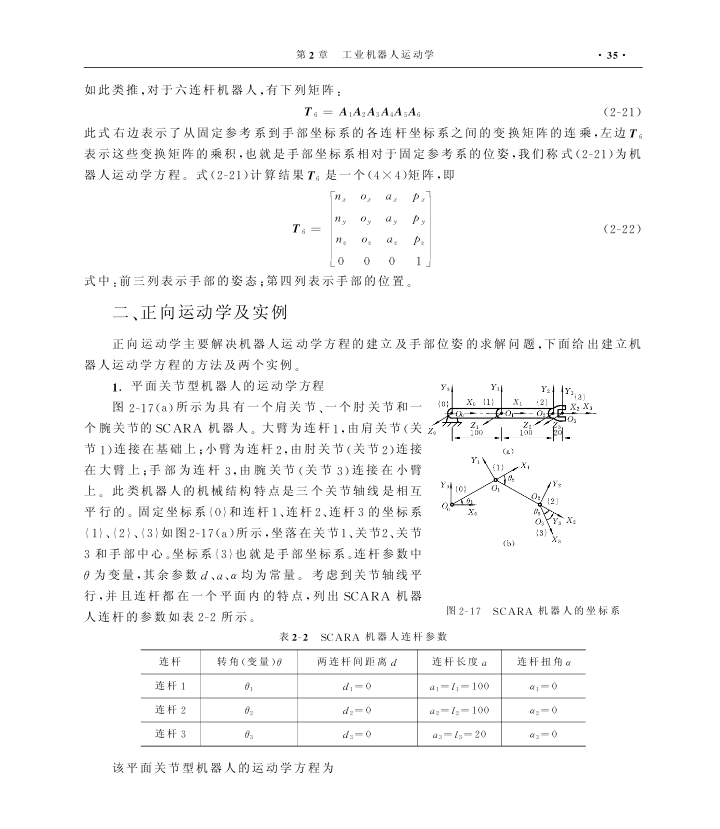table: (140, 649, 585, 747)
